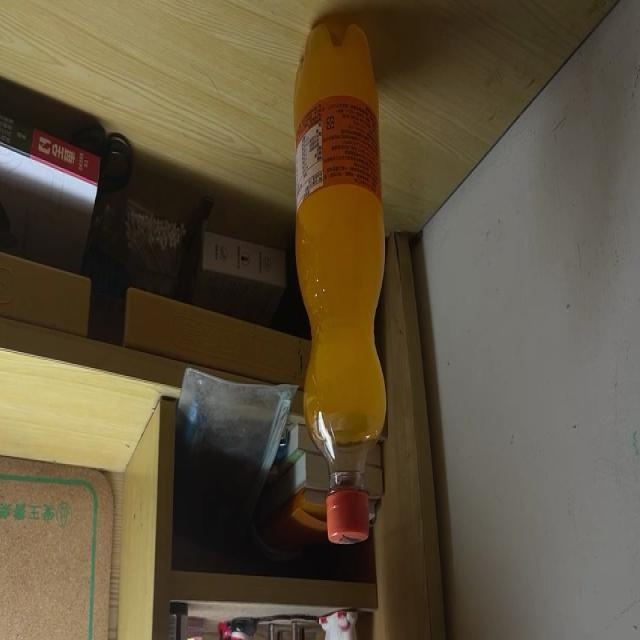Fanta: (292, 26, 389, 544)
